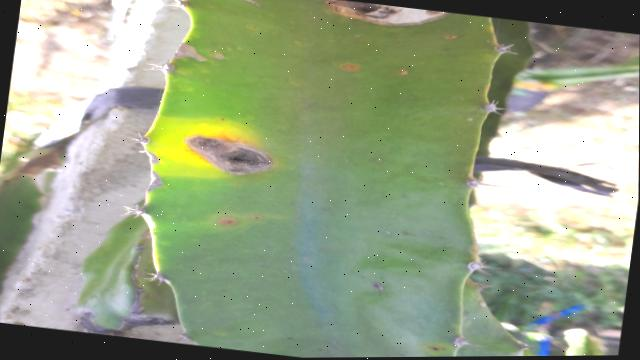stemcanker: (213, 210, 270, 234), (332, 56, 369, 80), (437, 30, 470, 44), (394, 65, 414, 78)
